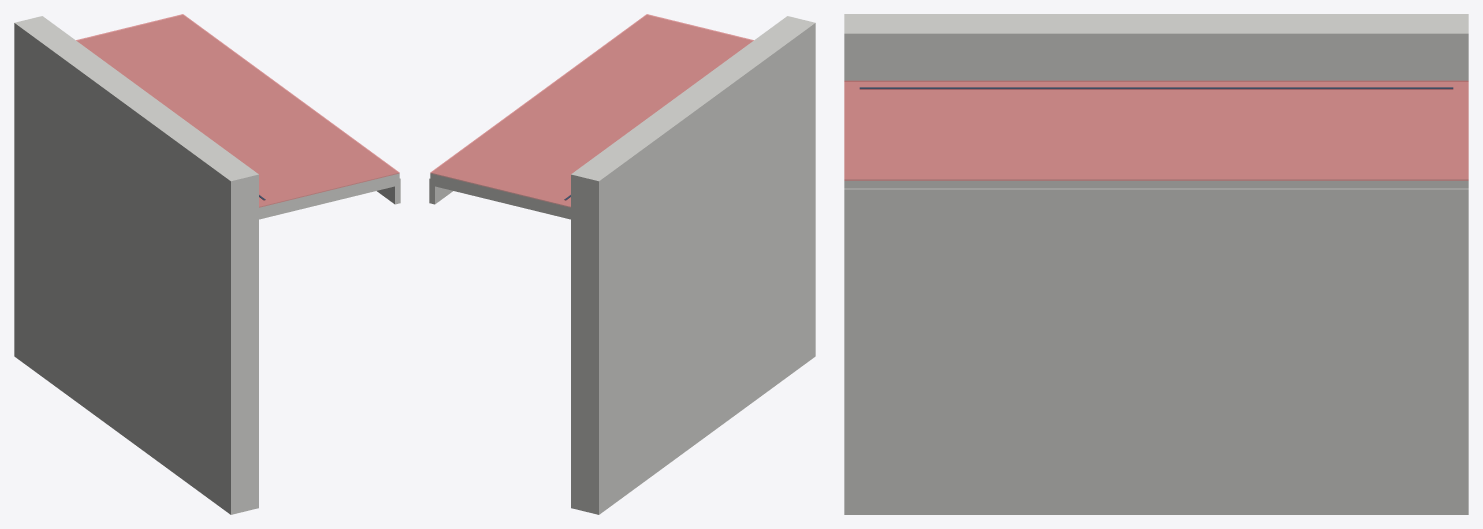
File: ar-bab04-kanopi.glb
3 views of the same model, side by side, from view 1: azimuth 30°, elevation 25°; view 2: azimuth 150°, elevation 25°; view 3: azimuth 270°, elevation 25° (orthographic). The views are drawn at different scales.
Parts seen in each view (by area): view 1: geometry_0, geometry_1, geometry_2; view 2: geometry_0, geometry_1, geometry_2; view 3: geometry_0, geometry_1, geometry_2, geometry_3, geometry_14.
Part boxes in pixels (<box>): geometry_0: <box>14,16,258,514</box>; geometry_1: <box>77,15,399,219</box>; geometry_2: <box>76,14,399,207</box>; geometry_0: <box>571,16,815,514</box>; geometry_1: <box>430,15,752,219</box>; geometry_2: <box>430,14,753,207</box>; geometry_0: <box>844,14,1468,514</box>; geometry_1: <box>844,82,1468,188</box>; geometry_2: <box>844,80,1468,180</box>; geometry_3: <box>844,188,1468,224</box>; geometry_14: <box>859,87,1453,89</box>.
Bounding box in the file's own units: 1.81 × 3.4 × 4.
